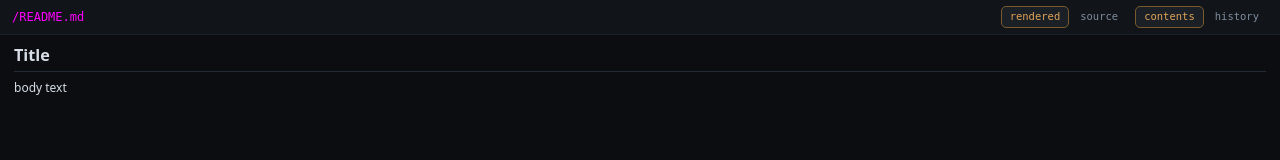
shows the raw bytes in source mode
The width and height of the screenshot is (1280, 160).
Expected: the text "body text" is shown, [14,79,67,96]
Click the radio button labelled "source" at {"x": 1099, "y": 17}, box [1071,6,1127,28]
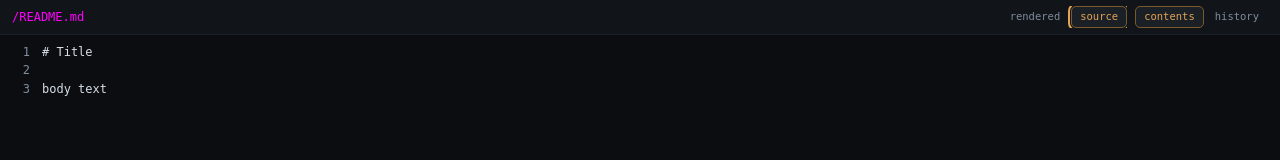
Result: the text "1 # Title" is shown at [23,45,93,59]
